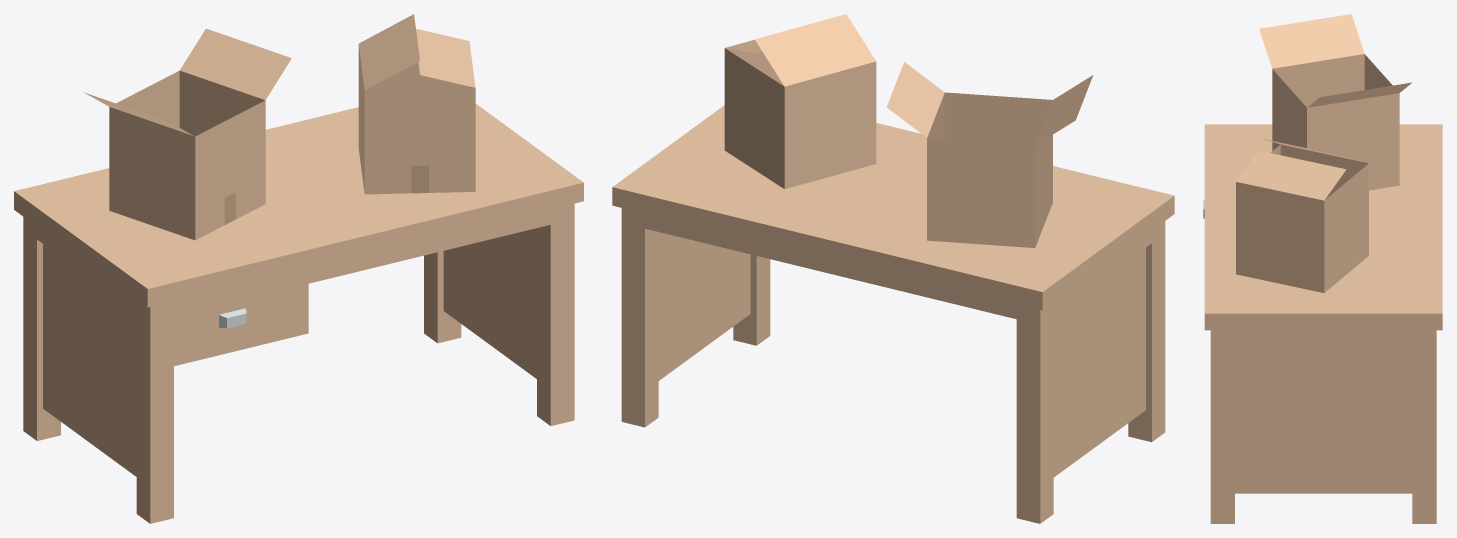
The model's file is tavolo.glb.
The picture shows the model from 3 angles, left to right: view 1: azimuth 30°, elevation 25°; view 2: azimuth 150°, elevation 25°; view 3: azimuth 270°, elevation 25°; orthographic projection. The views are drawn at different scales.
Visible parts, largest first — view 1: desk, cardboardBoxOpen(Clone), cardboardBoxClosed(Clone); view 2: desk, cardboardBoxClosed(Clone), cardboardBoxOpen(Clone); view 3: desk, cardboardBoxClosed(Clone), cardboardBoxOpen(Clone).
Part boxes in pixels (box(x1,y1,x2,y2)): desk: box(14, 104, 583, 523); cardboardBoxOpen(Clone): box(83, 28, 291, 240); cardboardBoxClosed(Clone): box(358, 14, 475, 194); desk: box(612, 105, 1174, 523); cardboardBoxClosed(Clone): box(724, 14, 876, 189); cardboardBoxOpen(Clone): box(887, 62, 1093, 247); desk: box(1203, 124, 1442, 523); cardboardBoxClosed(Clone): box(1236, 138, 1368, 292); cardboardBoxOpen(Clone): box(1259, 14, 1412, 190).
Size of the model in its own units: 0.7345 by 0.5974 by 0.3923.
